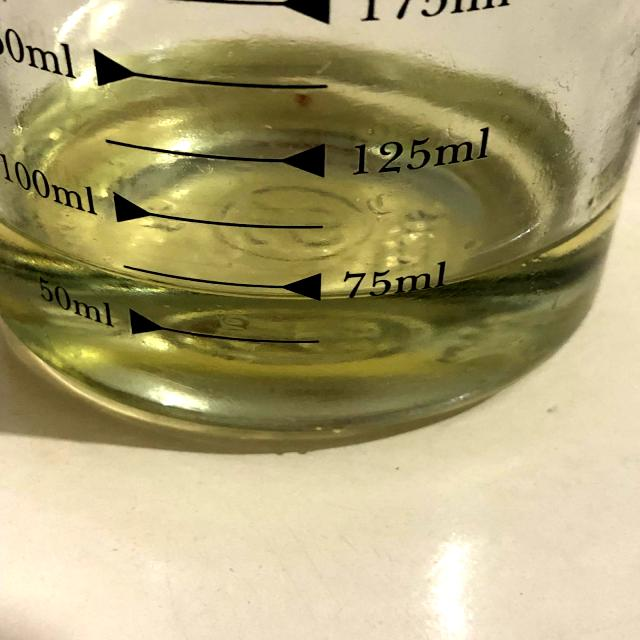olive oil: (1, 0, 640, 455)
